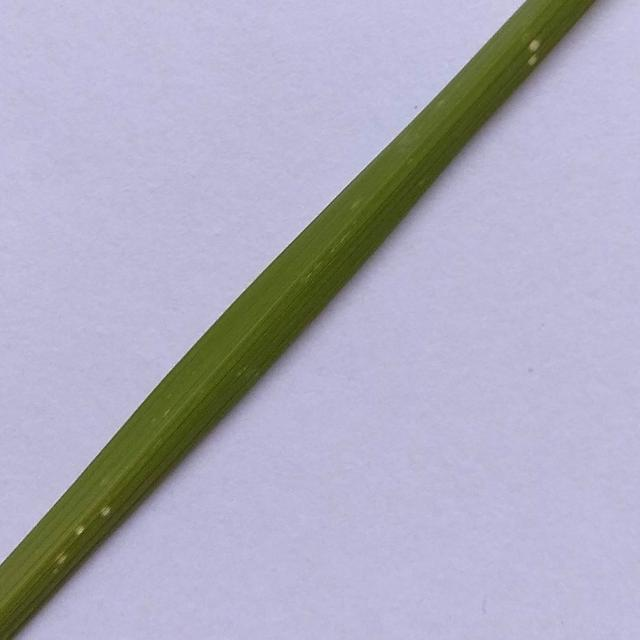Blast: (526, 40, 542, 67), (52, 548, 70, 564), (100, 502, 112, 519)
